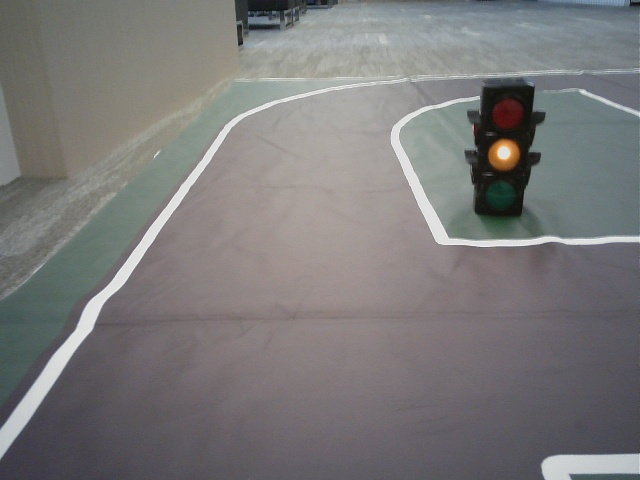yellow: (479, 91, 525, 209)
